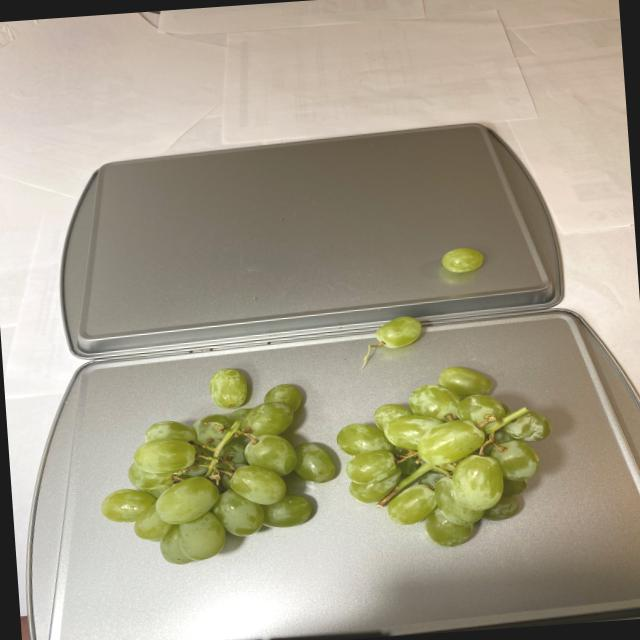grapes: (85, 348, 562, 576), (367, 312, 429, 356), (435, 243, 492, 276)
